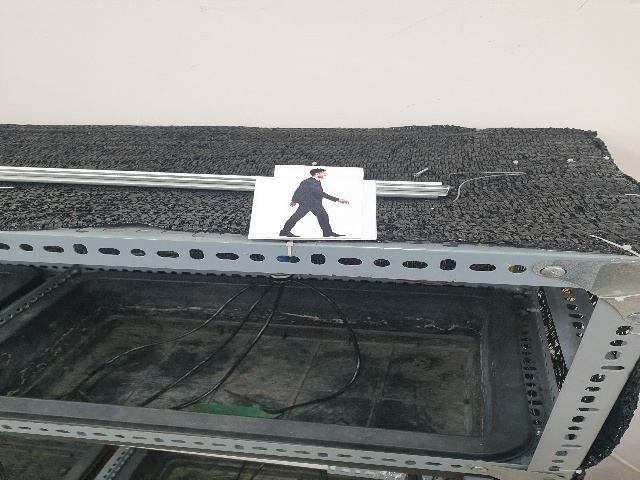Person: (269, 167, 356, 240)
